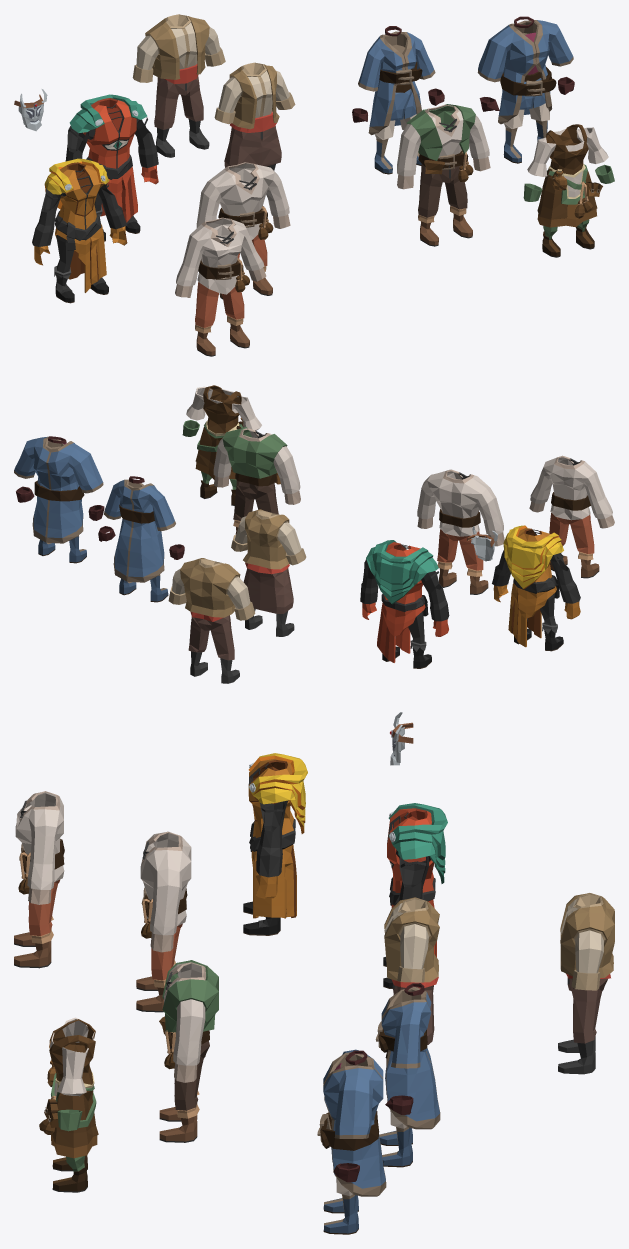
Rendered from ARMORS_generic_part2.fbx.
The picture shows the model from 3 angles, top to bottom: view 1: azimuth 30°, elevation 25°; view 2: azimuth 150°, elevation 25°; view 3: azimuth 270°, elevation 25°; orthographic projection. The views are drawn at different scales.
Visible parts, largest first — view 1: ARMOR_azathulmage_01f, ARMOR_cloth_innkeep_01m, ARMOR_cloth_blue_01m, ARMOR_cloth_warmtone_01m, ARMOR_cloth_common_01f, ARMOR_cloth_innkeep_01f, ARMOR_azathulmage_01:priestOfDusk_m, ARMOR_cloth_blue_01f, ARMOR_cloth_warmtone_01f, ARMOR_cloth_common_01m, ARMOR_azathulmage_01:mask; view 2: ARMOR_azathulmage_01:priestOfDusk_m, ARMOR_cloth_blue_01m, ARMOR_azathulmage_01f, ARMOR_cloth_common_01m, ARMOR_cloth_blue_01f, ARMOR_cloth_warmtone_01m, ARMOR_cloth_warmtone_01f, ARMOR_cloth_innkeep_01m, ARMOR_cloth_common_01f, ARMOR_cloth_innkeep_01f, ARMOR_azathulmage_01:mask; view 3: ARMOR_cloth_blue_01m, ARMOR_azathulmage_01f, ARMOR_cloth_blue_01f, ARMOR_cloth_innkeep_01m, ARMOR_cloth_innkeep_01f, ARMOR_cloth_warmtone_01m, ARMOR_cloth_common_01f, ARMOR_cloth_common_01m, ARMOR_azathulmage_01:priestOfDusk_m, ARMOR_cloth_warmtone_01f.
Part boxes in pixels (left/top/right/bottom): ARMOR_azathulmage_01f: left=32, top=158, right=127, bottom=303; ARMOR_cloth_innkeep_01m: left=397, top=104, right=490, bottom=246; ARMOR_cloth_blue_01m: left=477, top=16, right=574, bottom=163; ARMOR_cloth_warmtone_01m: left=132, top=14, right=225, bottom=157; ARMOR_cloth_common_01f: left=175, top=217, right=266, bottom=356; ARMOR_cloth_innkeep_01f: left=523, top=124, right=614, bottom=257; ARMOR_azathulmage_01:priestOfDusk_m: left=65, top=94, right=158, bottom=241; ARMOR_cloth_blue_01f: left=352, top=26, right=444, bottom=174; ARMOR_cloth_warmtone_01f: left=214, top=62, right=295, bottom=170; ARMOR_cloth_common_01m: left=196, top=162, right=290, bottom=299; ARMOR_azathulmage_01:mask: left=14, top=89, right=47, bottom=131; ARMOR_azathulmage_01:priestOfDusk_m: left=360, top=540, right=449, bottom=668; ARMOR_cloth_blue_01m: left=14, top=436, right=104, bottom=563; ARMOR_azathulmage_01f: left=492, top=525, right=580, bottom=651; ARMOR_cloth_common_01m: left=417, top=469, right=504, bottom=594; ARMOR_cloth_blue_01f: left=98, top=476, right=184, bottom=602; ARMOR_cloth_warmtone_01m: left=168, top=558, right=255, bottom=683; ARMOR_cloth_warmtone_01f: left=231, top=509, right=306, bottom=636; ARMOR_cloth_innkeep_01m: left=213, top=427, right=300, bottom=534; ARMOR_cloth_common_01f: left=529, top=455, right=614, bottom=578; ARMOR_cloth_innkeep_01f: left=182, top=385, right=261, bottom=505; ARMOR_azathulmage_01:mask: left=467, top=526, right=497, bottom=561; ARMOR_cloth_blue_01m: left=317, top=1049, right=386, bottom=1234; ARMOR_azathulmage_01f: left=243, top=753, right=307, bottom=935; ARMOR_cloth_blue_01f: left=375, top=983, right=440, bottom=1167; ARMOR_cloth_innkeep_01m: left=159, top=960, right=218, bottom=1142; ARMOR_cloth_innkeep_01f: left=39, top=1017, right=98, bottom=1192; ARMOR_cloth_warmtone_01m: left=558, top=893, right=614, bottom=1074; ARMOR_cloth_common_01f: left=14, top=791, right=64, bottom=968; ARMOR_cloth_common_01m: left=136, top=831, right=191, bottom=1012; ARMOR_azathulmage_01:priestOfDusk_m: left=383, top=803, right=447, bottom=988; ARMOR_cloth_warmtone_01f: left=384, top=897, right=439, bottom=1044.
Bounding box in the file's own units: 3248 × 878 × 2319.
